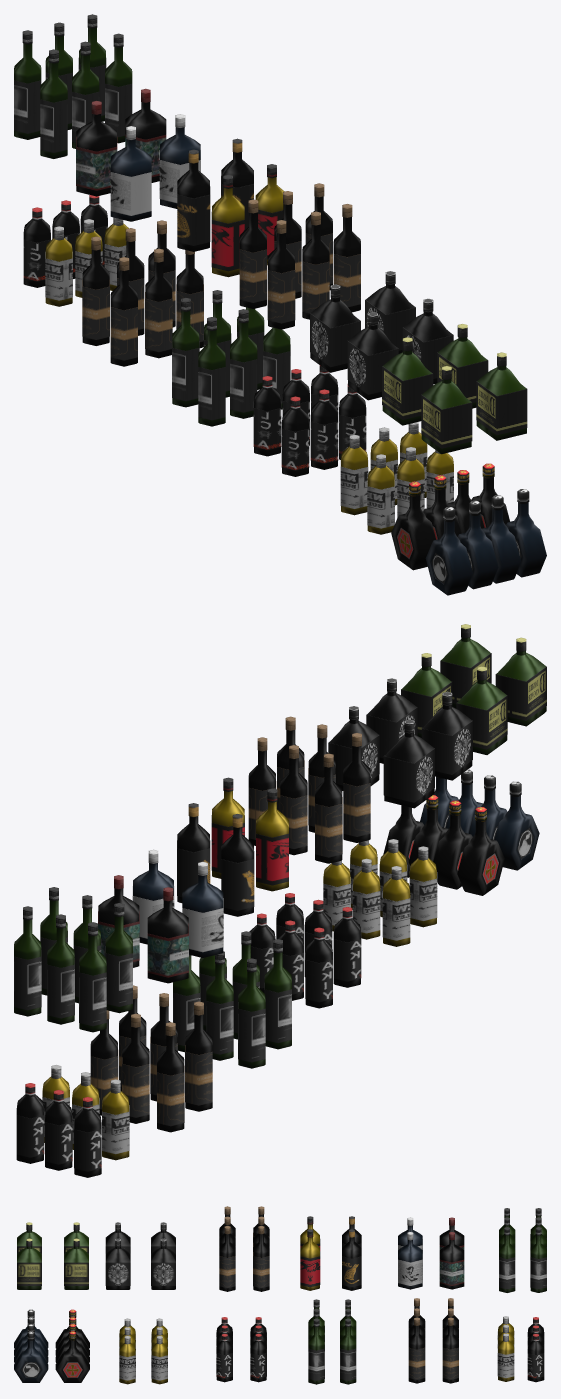
Rendered from hotel_alcholbottle.fbx.
3 renders of one model, top to bottom at view 1: azimuth 30°, elevation 25°; view 2: azimuth 150°, elevation 25°; view 3: azimuth 270°, elevation 25°, orthographic. The views are drawn at different scales.
Visible parts, largest first — view 1: hotel_alcholbottle_grupe; view 2: hotel_alcholbottle_grupe; view 3: hotel_alcholbottle_grupe.
Part boxes in pixels (<box>): hotel_alcholbottle_grupe: <box>14,14,546,595</box>; hotel_alcholbottle_grupe: <box>14,624,546,1177</box>; hotel_alcholbottle_grupe: <box>14,1206,546,1384</box>.
Size of the model in its own units: 36.44 by 81.18 by 256.
